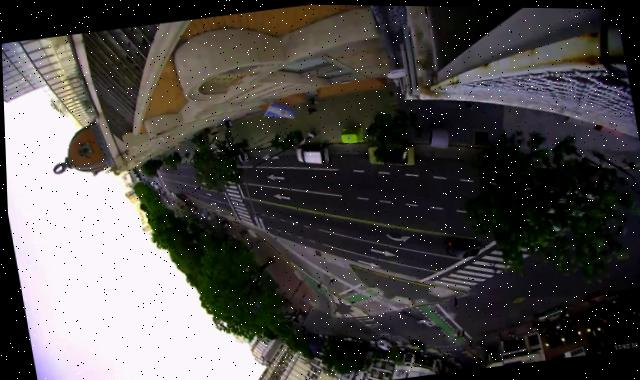bus: (175, 191, 190, 206)
car: (365, 139, 416, 169), (442, 232, 479, 259), (295, 143, 329, 166), (535, 304, 563, 321), (586, 288, 607, 303), (620, 286, 640, 301), (375, 336, 391, 350), (407, 337, 423, 349), (236, 151, 249, 161), (451, 360, 463, 367), (367, 337, 374, 346), (316, 332, 323, 338), (355, 337, 361, 342), (350, 336, 355, 342), (345, 336, 351, 341), (291, 318, 297, 323), (153, 183, 158, 188), (171, 192, 176, 197), (374, 338, 378, 344), (165, 189, 170, 193), (322, 334, 326, 338), (341, 335, 345, 339), (170, 191, 173, 194)
